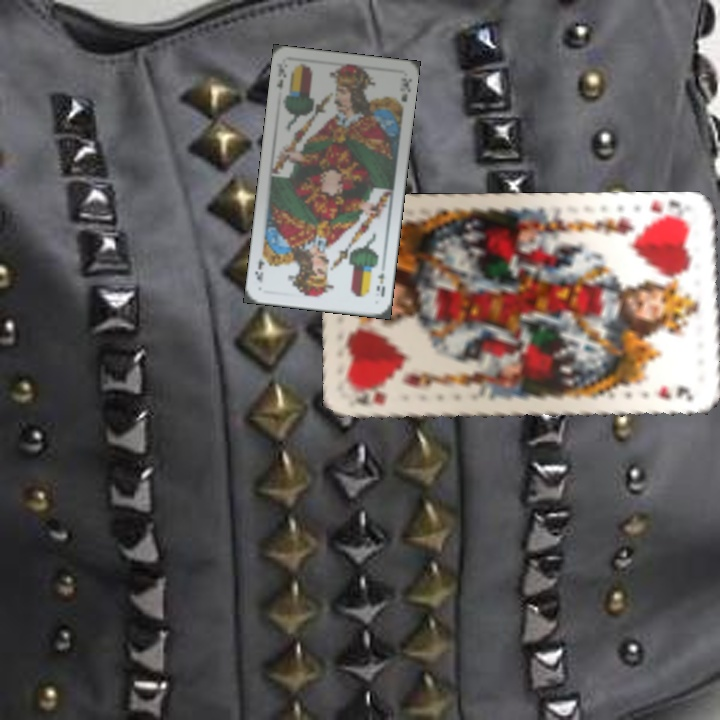EK: (273, 59, 289, 93), (373, 269, 388, 299)
HK: (646, 198, 690, 225), (347, 387, 390, 408)
